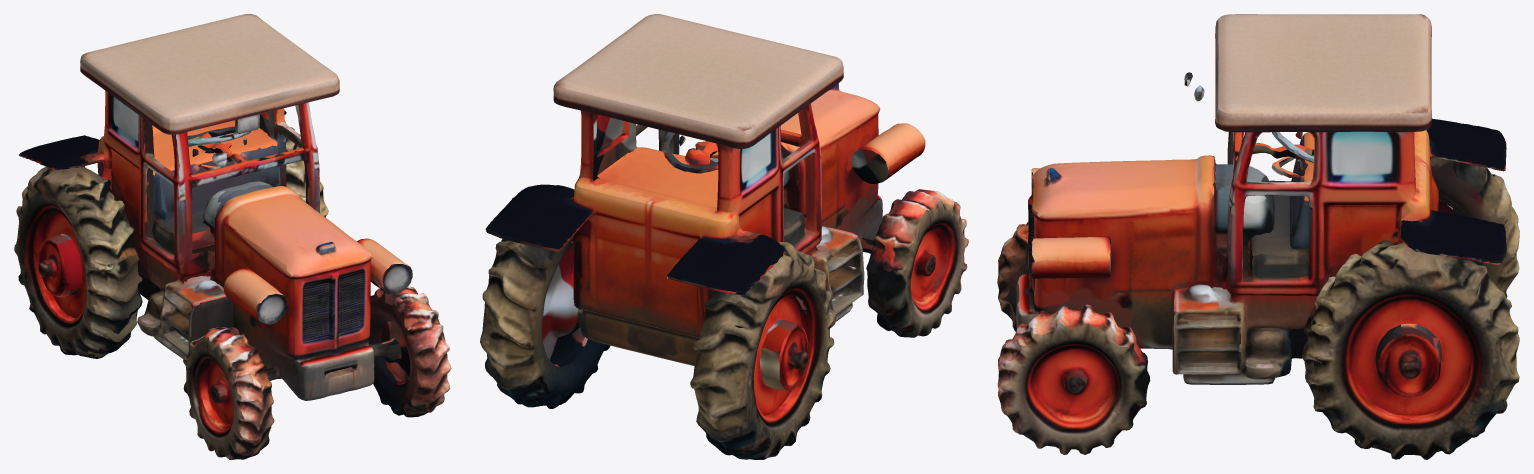
The model's file is tractor_viejo.glb.
3 renders of one model, left to right at view 1: azimuth 30°, elevation 25°; view 2: azimuth 150°, elevation 25°; view 3: azimuth 270°, elevation 25°, orthographic. The views are drawn at different scales.
Parts seen in each view (by area): view 1: tmppok8rt0d.ply; view 2: tmppok8rt0d.ply; view 3: tmppok8rt0d.ply.
Part boxes in pixels (x1,y1,x2,y2): tmppok8rt0d.ply: [14, 14, 451, 459]; tmppok8rt0d.ply: [480, 14, 968, 459]; tmppok8rt0d.ply: [997, 14, 1519, 459].
Bounding box in the file's own units: 0.68 × 0.7114 × 0.9893.
Materials: 1 (1 with a texture image).
